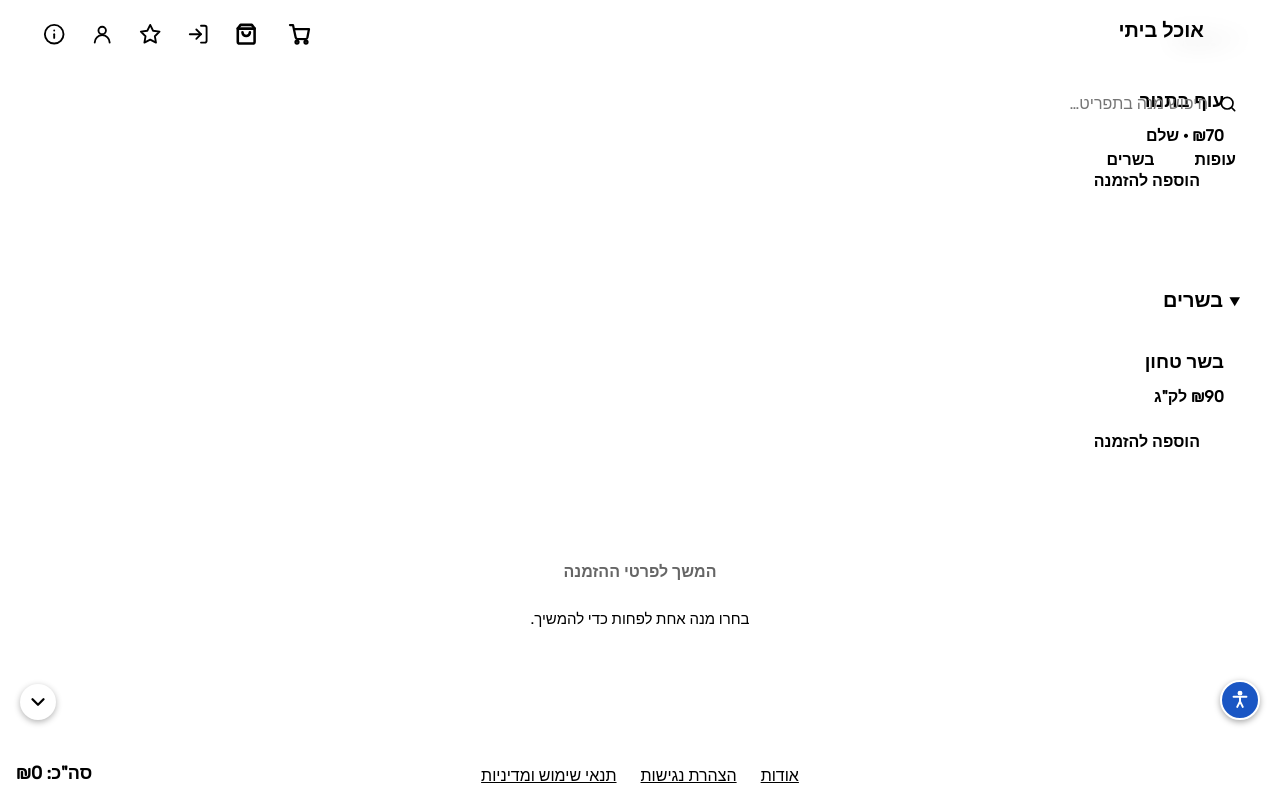
Test: Order flow with a continue button › hides the order details until the client presses continue
(page scrolled)
Expected: the heading "עופות" is shown, [1171,27,1223,51]
Expected: the heading "בשרים" is shown, [1163,288,1223,312]
Click the button with aria-label "הוספה להזמנה: בשר טחון".
click(1147, 442)  # box [1074,420,1220,465]
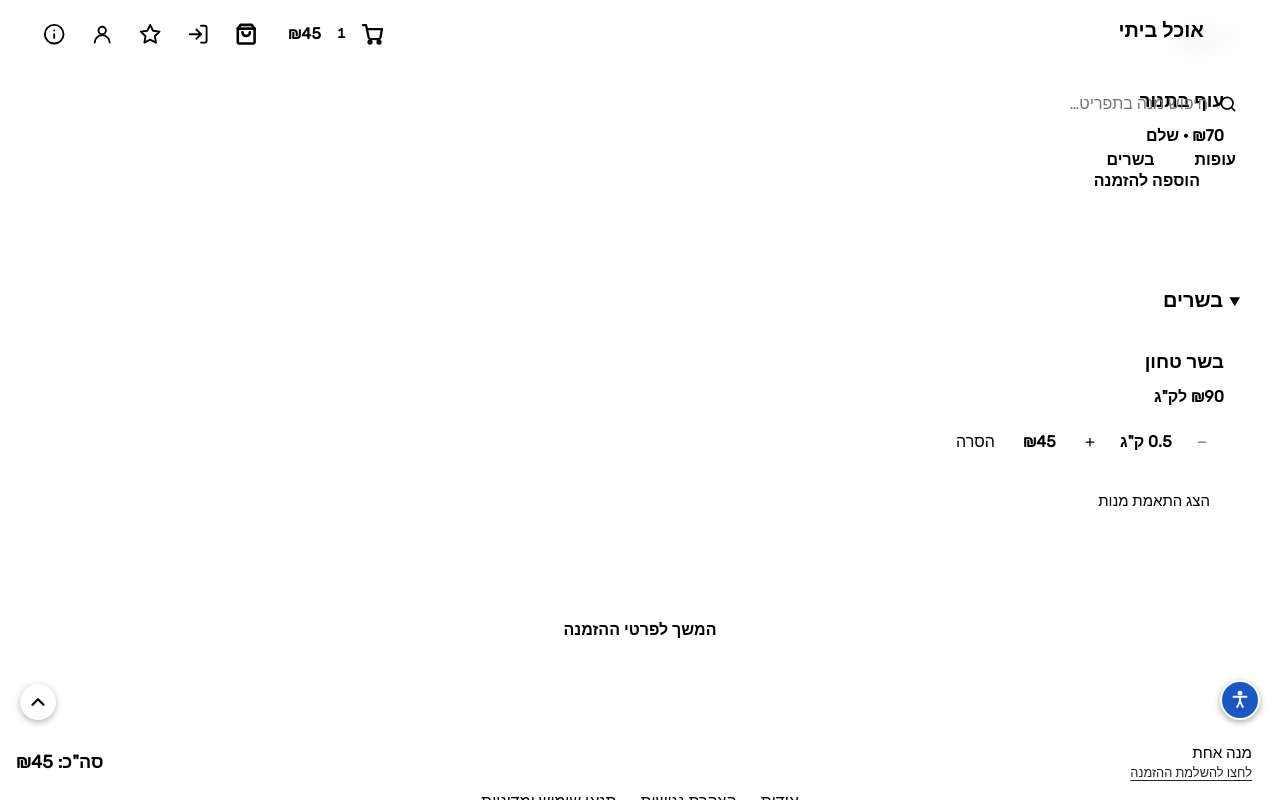
Click the button "המשך לפרטי ההזמנה".
click(640, 630)  # box [24,608,1256,653]
(page scrolled)
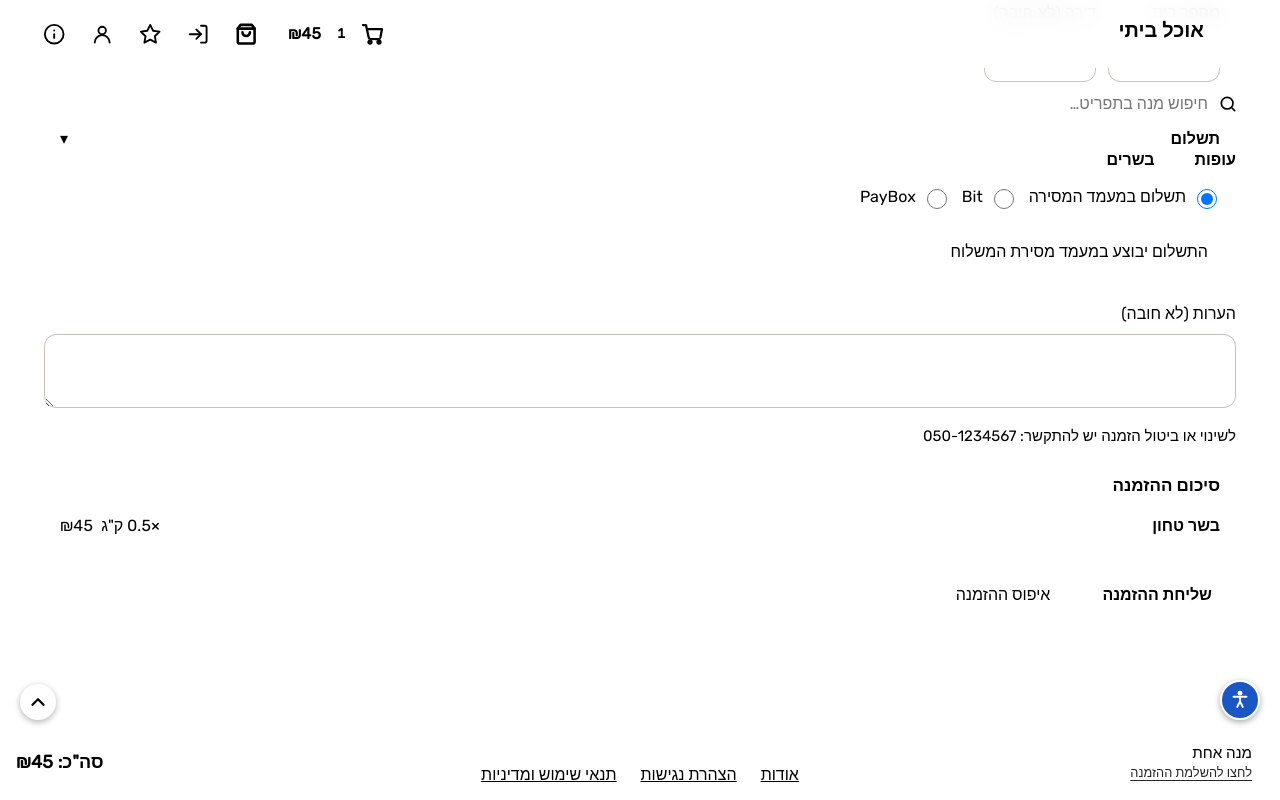
Expected: the button "שליחת ההזמנה" is shown, [1082,572,1232,618]
Expected: the button "המשך לפרטי ההזמנה" is gone
